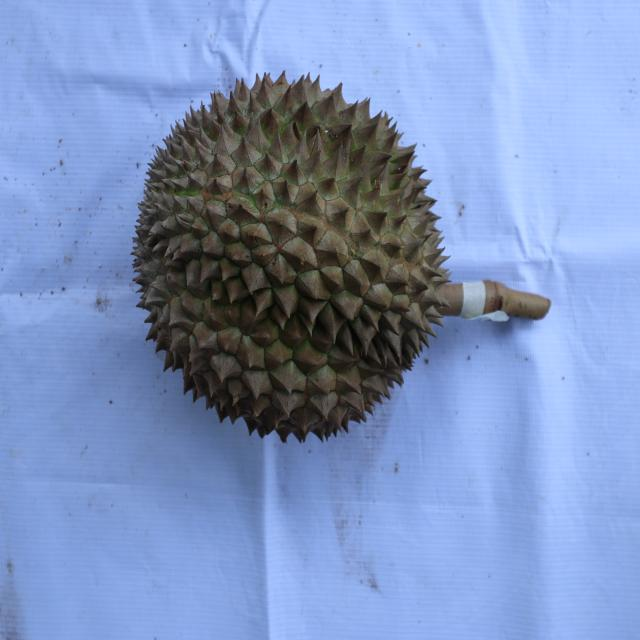mature: (132, 75, 452, 452)
